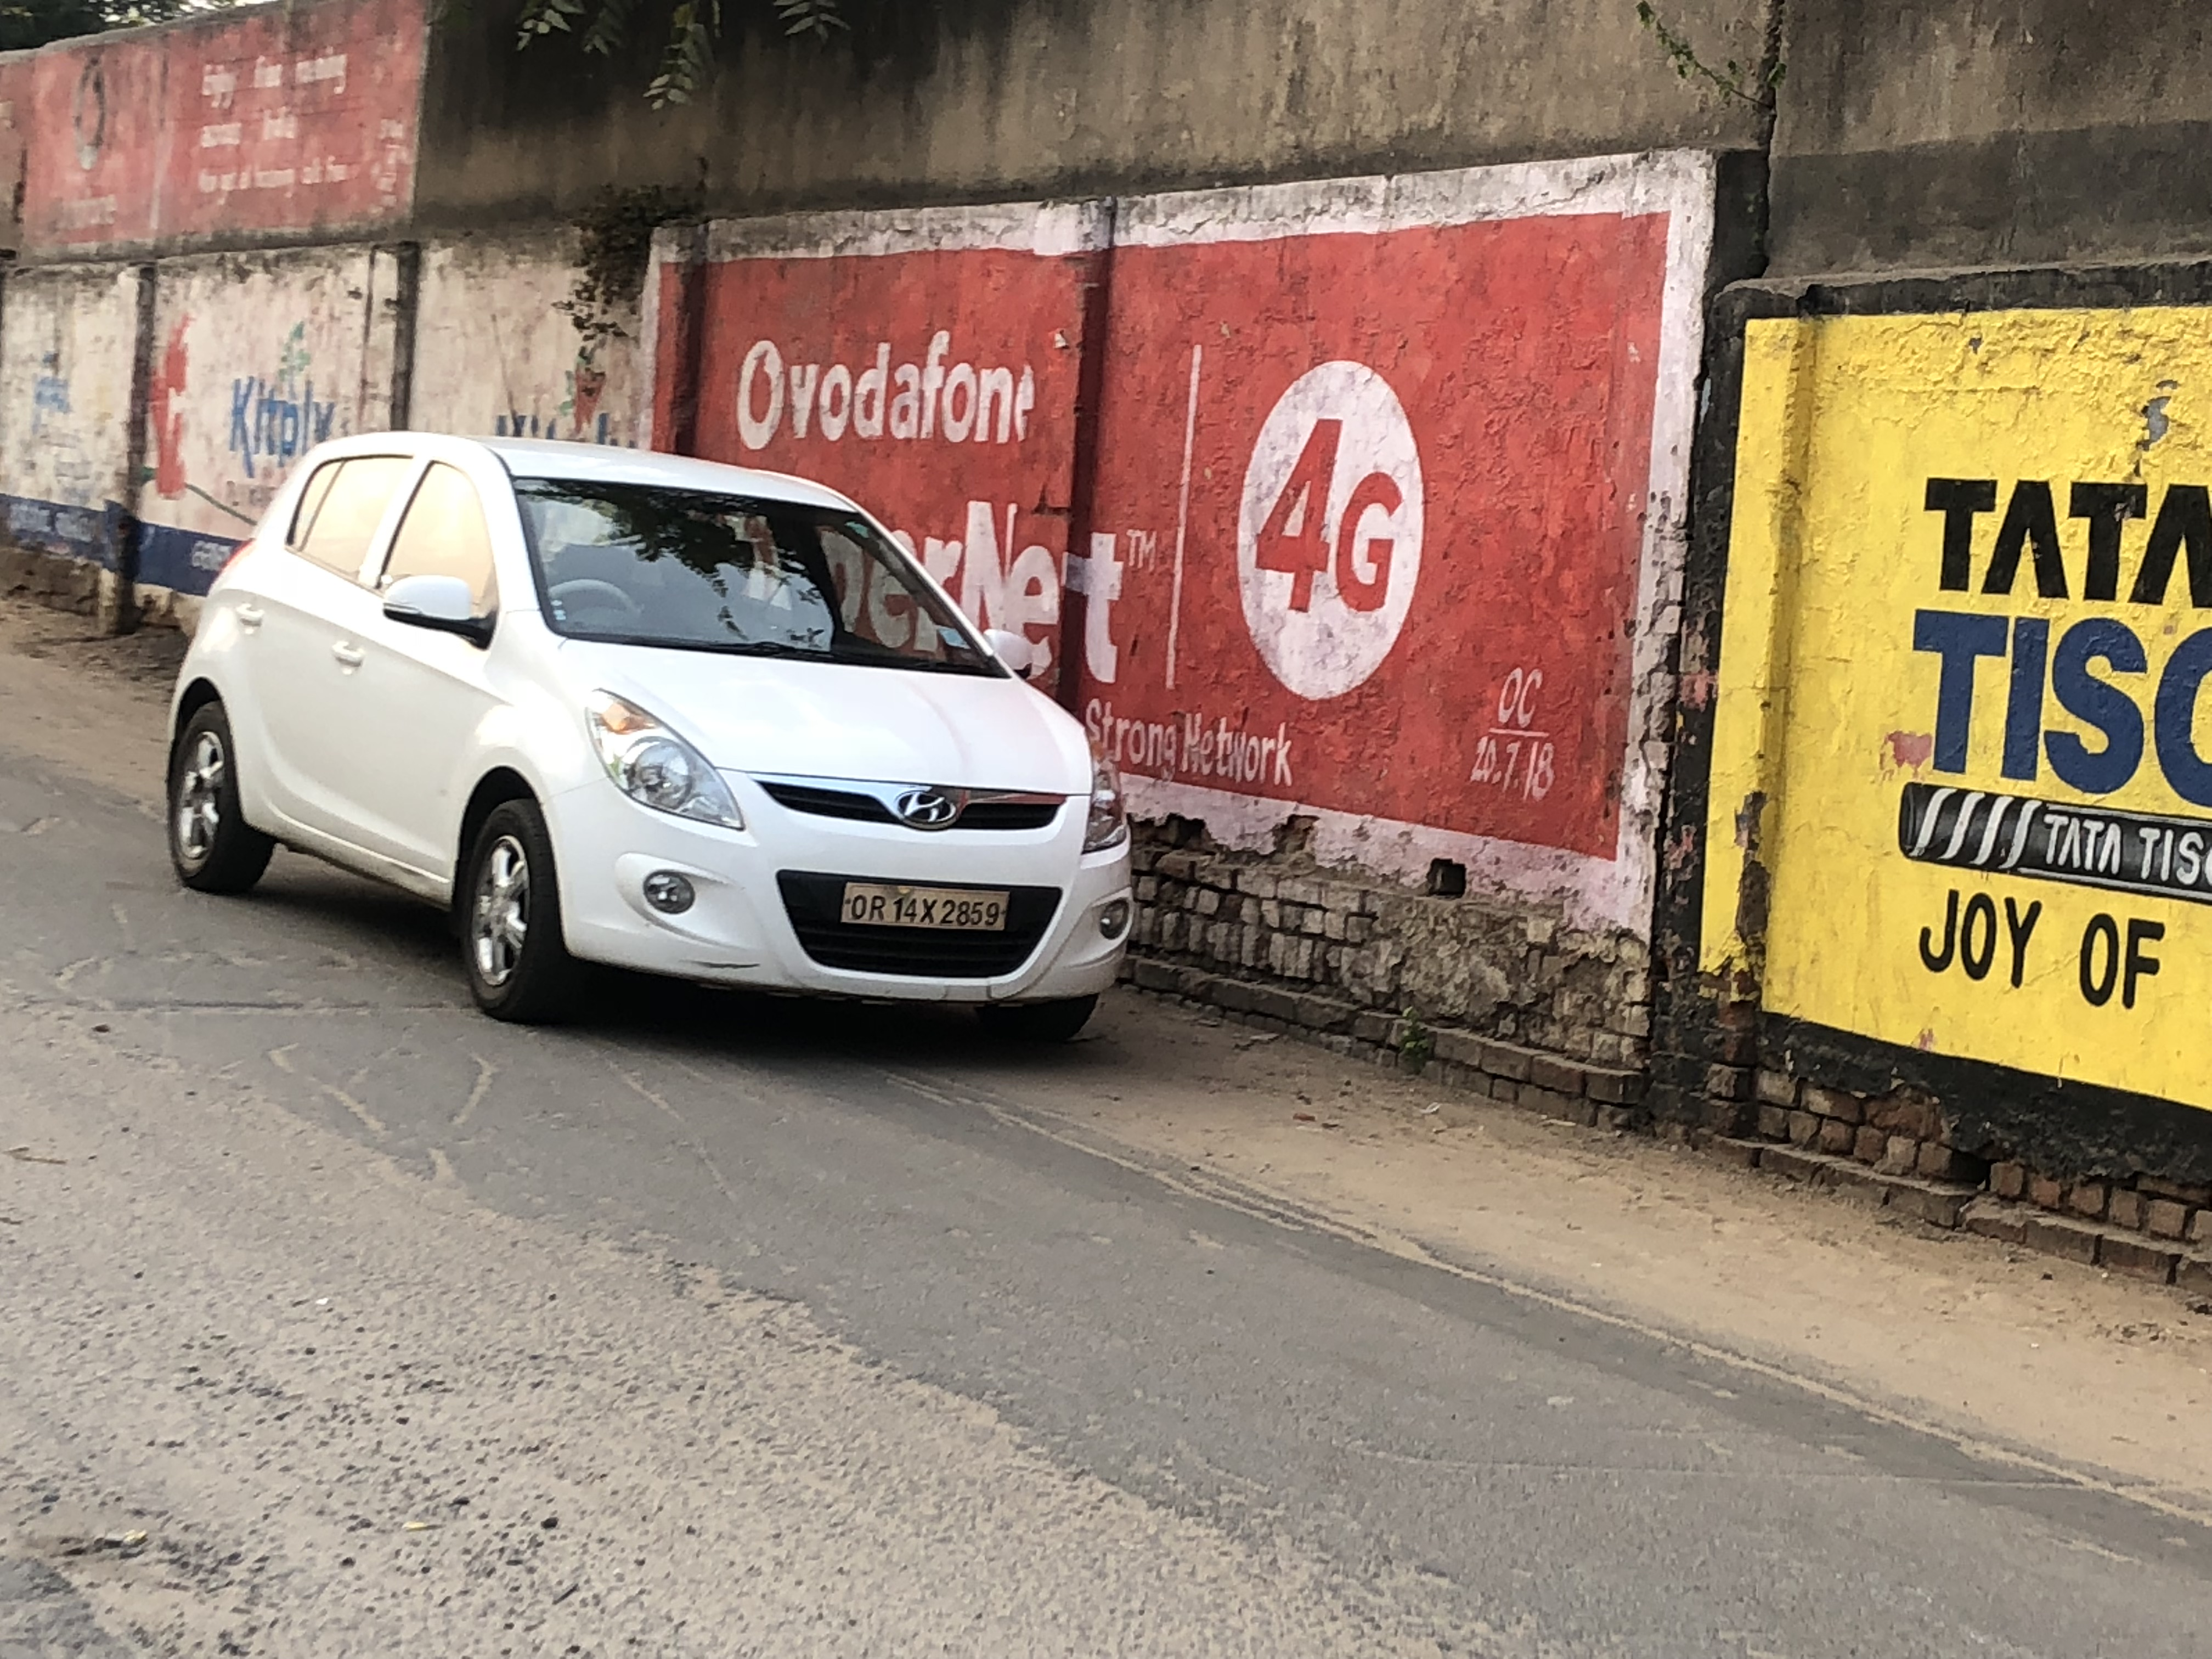licenseplate: (833, 872, 1020, 944)
